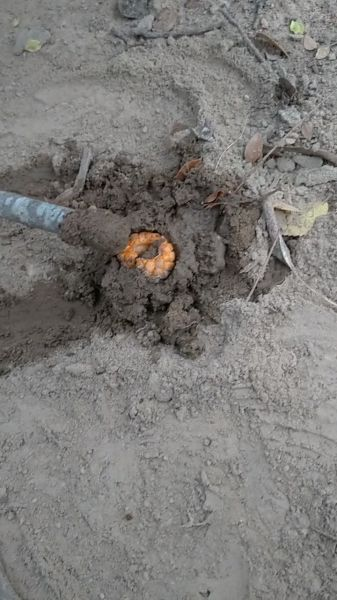eggs: (115, 224, 182, 285)
